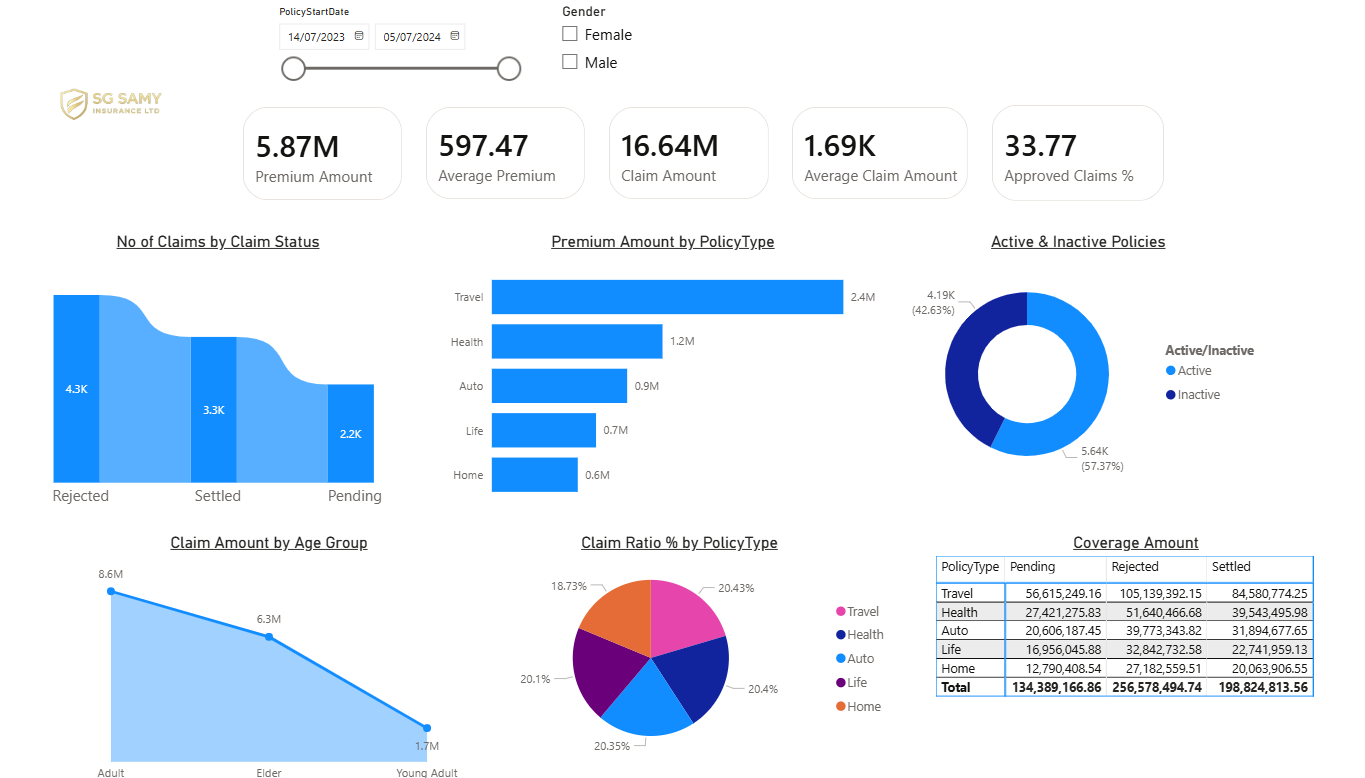

What the dashboard file says about the page in this screenshot:
{"tool":"powerbi","page":{"name":"Page 1","canvas":[1600,900],"ordinal":0},"visuals":[{"type":"cardVisual","fields":{"Data":["InsuranceData.Total Premium"]},"box":[248.3,97.6,203.3,133.3],"z":4},{"type":"cardVisual","fields":{"Data":["Sum(InsuranceData.ClaimAmount)"]},"box":[637,97.8,204.3,133],"z":6},{"type":"ribbonChart","title":"No of Claims by Claim Status","fields":{"Category":["InsuranceData.ClaimStatus"],"Y":["CountNonNull(InsuranceData.ClaimStatus)"]},"box":[0,248.3,476.7,301.7],"z":7},{"type":"clusteredBarChart","title":"Premium Amount by PolicyType","fields":{"Category":["InsuranceData.PolicyType"],"Y":["Sum(InsuranceData.PremiumAmount)"]},"box":[476.7,248.3,470,301.7],"z":8},{"type":"lineChart","title":"Claim Amount by Age Group","fields":{"Category":["InsuranceData.Age Group"],"Y":["Sum(InsuranceData.ClaimAmount)"]},"box":[52.1,568.1,480.9,273.4],"z":9},{"type":"donutChart","title":"Active & Inactive Policies","fields":{"Category":["InsuranceData.Active/Inactive"],"Y":["CountNonNull(InsuranceData.Active/Inactive)"]},"box":[946.7,248.3,413.3,283.3],"z":10},{"type":"cardVisual","fields":{"Data":["InsuranceData.Average Premium"]},"box":[442.7,97.8,203.2,133],"z":13},{"type":"cardVisual","fields":{"Data":["InsuranceData.Average Claim Amount"]},"box":[832.3,97.8,221.3,133],"z":14},{"type":"cardVisual","fields":{"Data":["InsuranceData.Approved Claims %"]},"box":[1044.7,96.2,217,136.2],"z":15},{"type":"slicer","fields":{"Values":["InsuranceData.PolicyStartDate"]},"box":[290,1.7,283.3,95],"z":16},{"type":"slicer","fields":{"Values":["InsuranceData.Gender"]},"box":[591.7,0,153.3,96.7],"z":17},{"type":"pivotTable","title":"Coverage Amount","fields":{"Rows":["InsuranceData.PolicyType"],"Columns":["InsuranceData.ClaimStatus"],"Values":["Sum(InsuranceData.CoverageAmount)"]},"box":[996.8,568.1,436.2,234],"z":18},{"type":"image","box":[0,2.1,258.5,230.9],"z":19},{"type":"pieChart","fields":{"Category":["InsuranceData.PolicyType"],"Y":["InsuranceData.Claim Ratio %"]},"box":[497.9,568.1,462.8,246.8],"z":20}]}

Visuals, with their boxes in screenshot pixels (x1, y1, x2, y2), scaled from the page's 1600x900 canvas onto the 1365x778 screenshot:
cardVisual - InsuranceData.Total Premium: <box>212,84,385,200</box>
cardVisual - Sum(InsuranceData.ClaimAmount): <box>543,85,718,200</box>
"No of Claims by Claim Status" ribbonChart: <box>0,215,407,475</box>
"Premium Amount by PolicyType" clusteredBarChart: <box>407,215,808,475</box>
"Claim Amount by Age Group" lineChart: <box>44,491,455,727</box>
"Active & Inactive Policies" donutChart: <box>808,215,1160,460</box>
cardVisual - InsuranceData.Average Premium: <box>378,85,551,200</box>
cardVisual - InsuranceData.Average Claim Amount: <box>710,85,899,200</box>
cardVisual - InsuranceData.Approved Claims %: <box>891,83,1076,201</box>
slicer - InsuranceData.PolicyStartDate: <box>247,1,489,84</box>
slicer - InsuranceData.Gender: <box>505,0,636,84</box>
"Coverage Amount" pivotTable: <box>850,491,1223,693</box>
image: <box>0,2,221,201</box>
pieChart - InsuranceData.PolicyType x InsuranceData.Claim Ratio %: <box>425,491,820,704</box>
